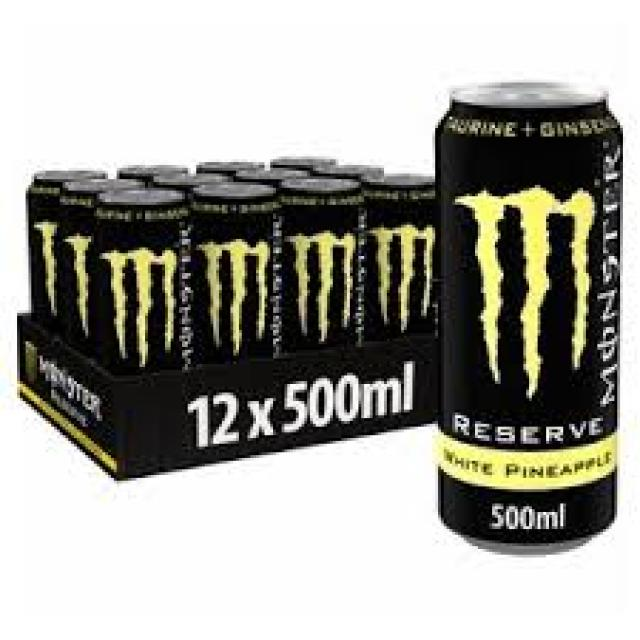Cans: (421, 66, 634, 554)
